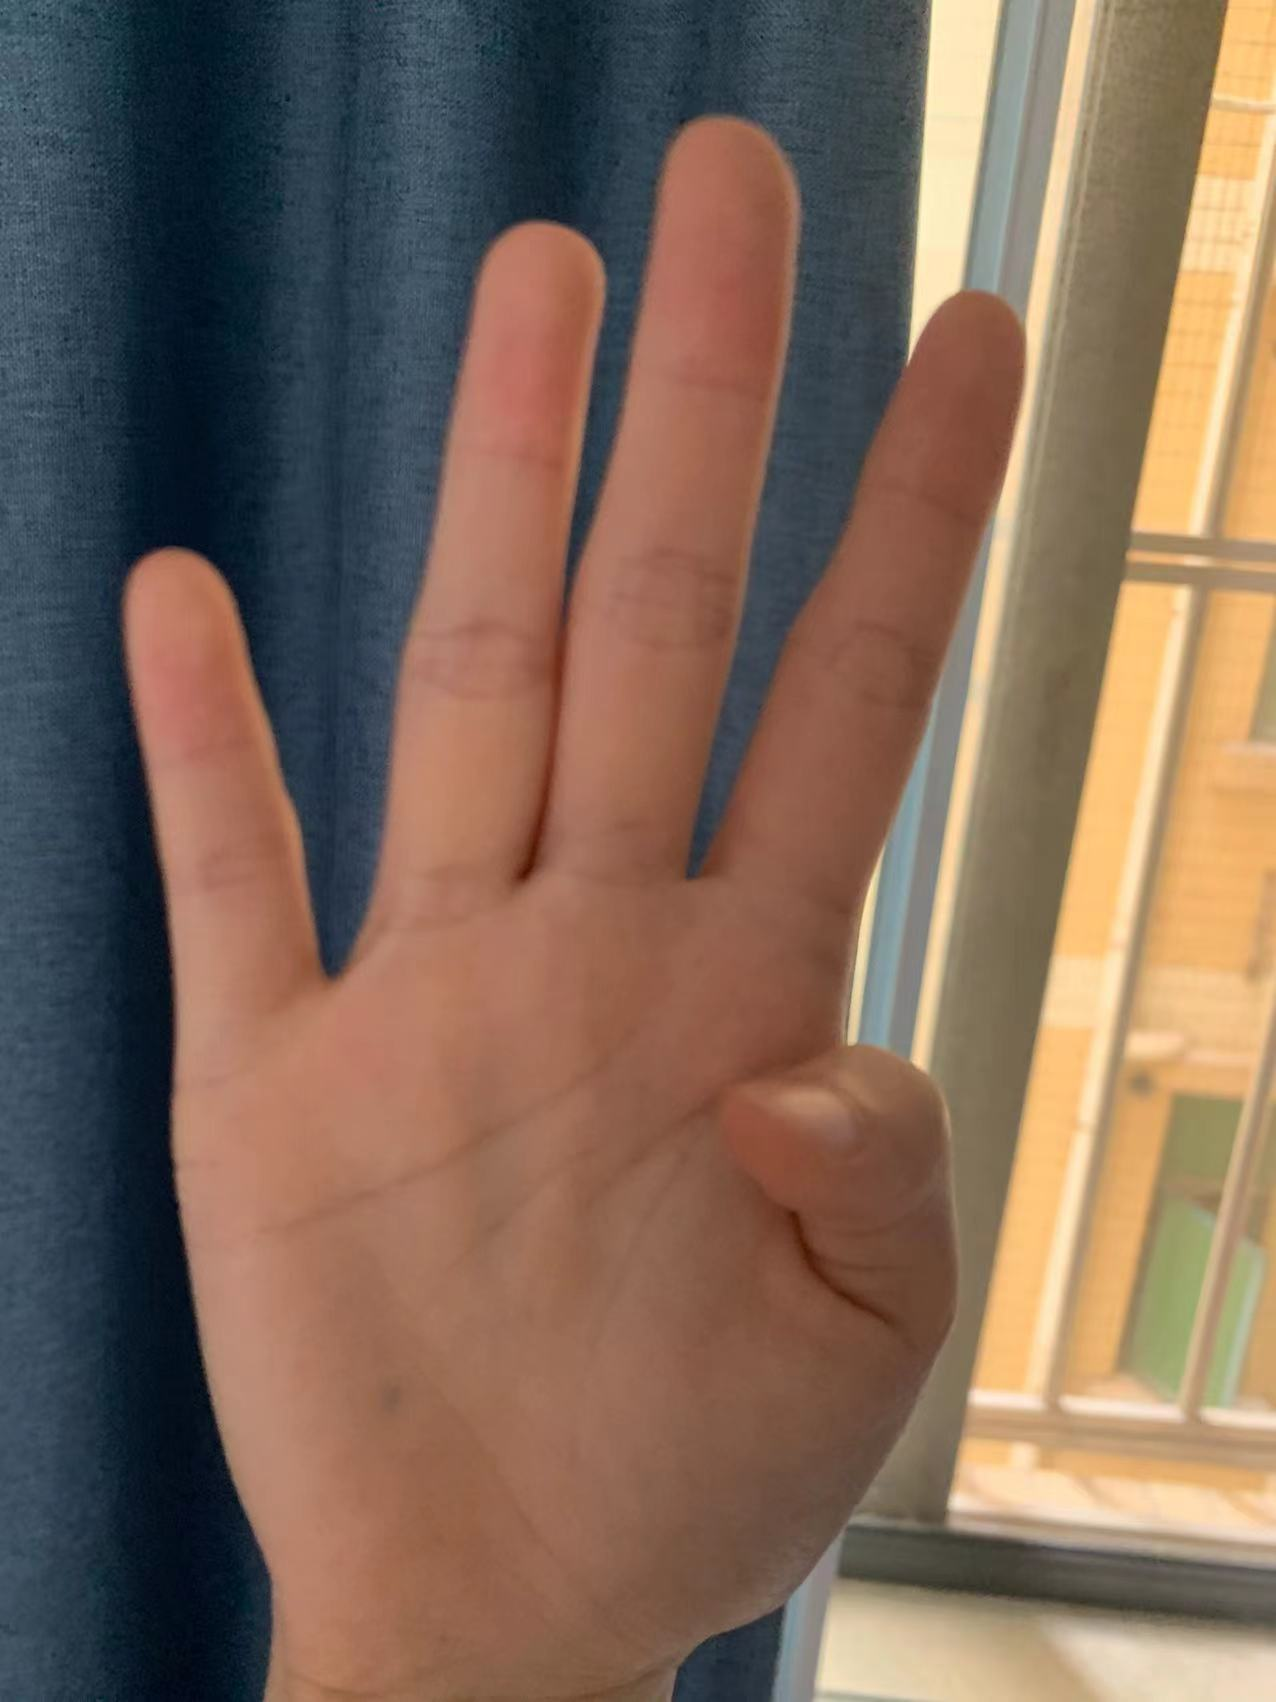right: (107, 118, 1076, 1596)
